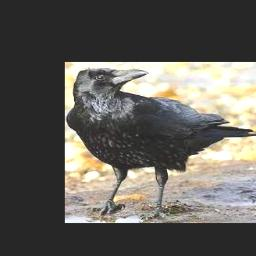Crow: (66, 67, 256, 219)
